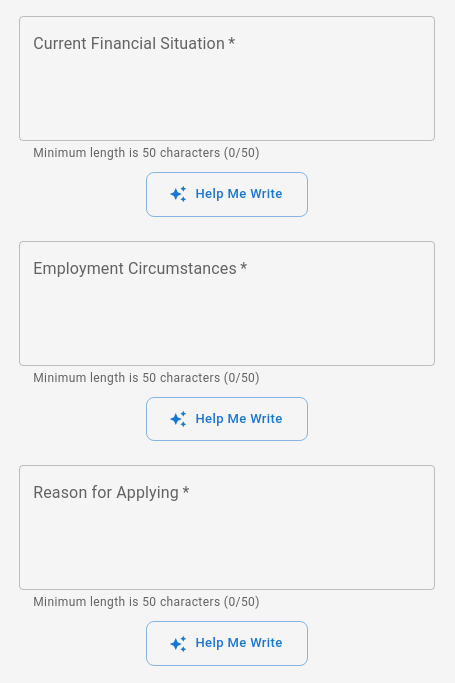
Test: Step3SituationDescriptions › Form Field Interactions › should update reasonForApplying field on change
Click the text box labelled "Reason for Applying" at (227, 528), box [33, 482, 421, 574]
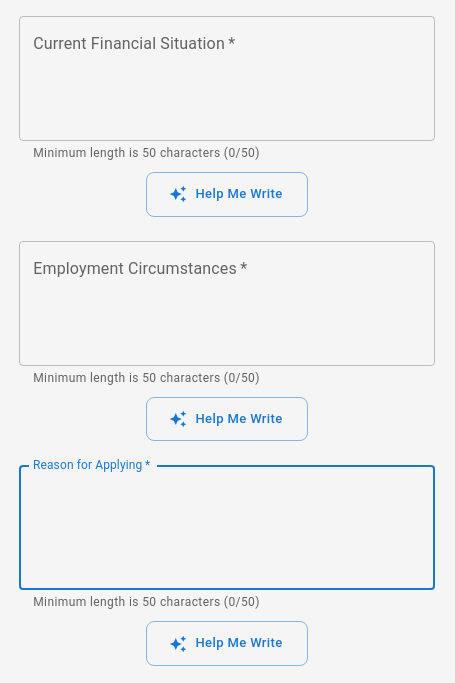
Type keys "Test reason for applying"
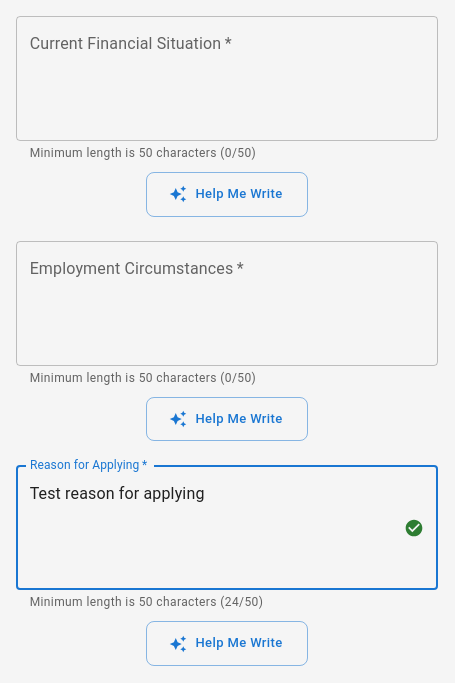
Check: the text box labelled "Reason for Applying" holds "Test reason for applying", box [30, 482, 396, 574]
